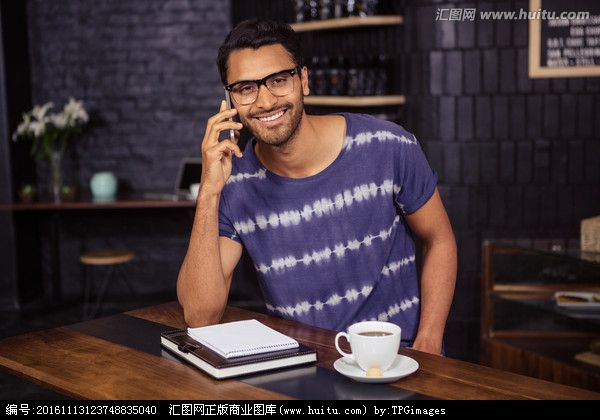phone: (210, 82, 246, 161)
talk: (195, 63, 302, 180)
